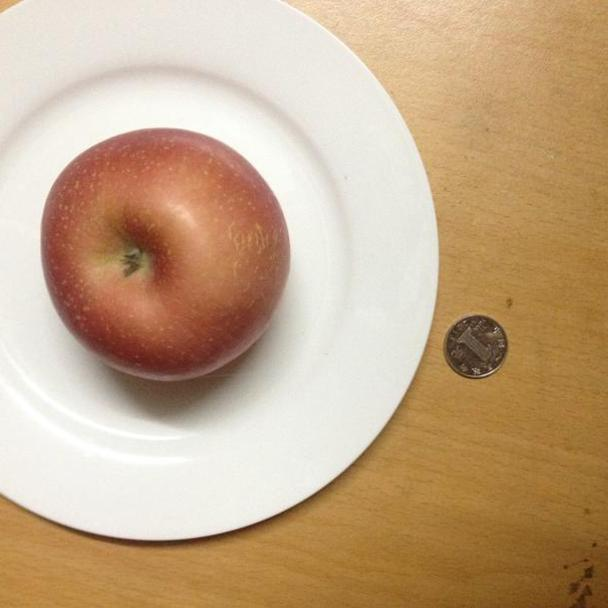apple: (39, 127, 290, 384)
